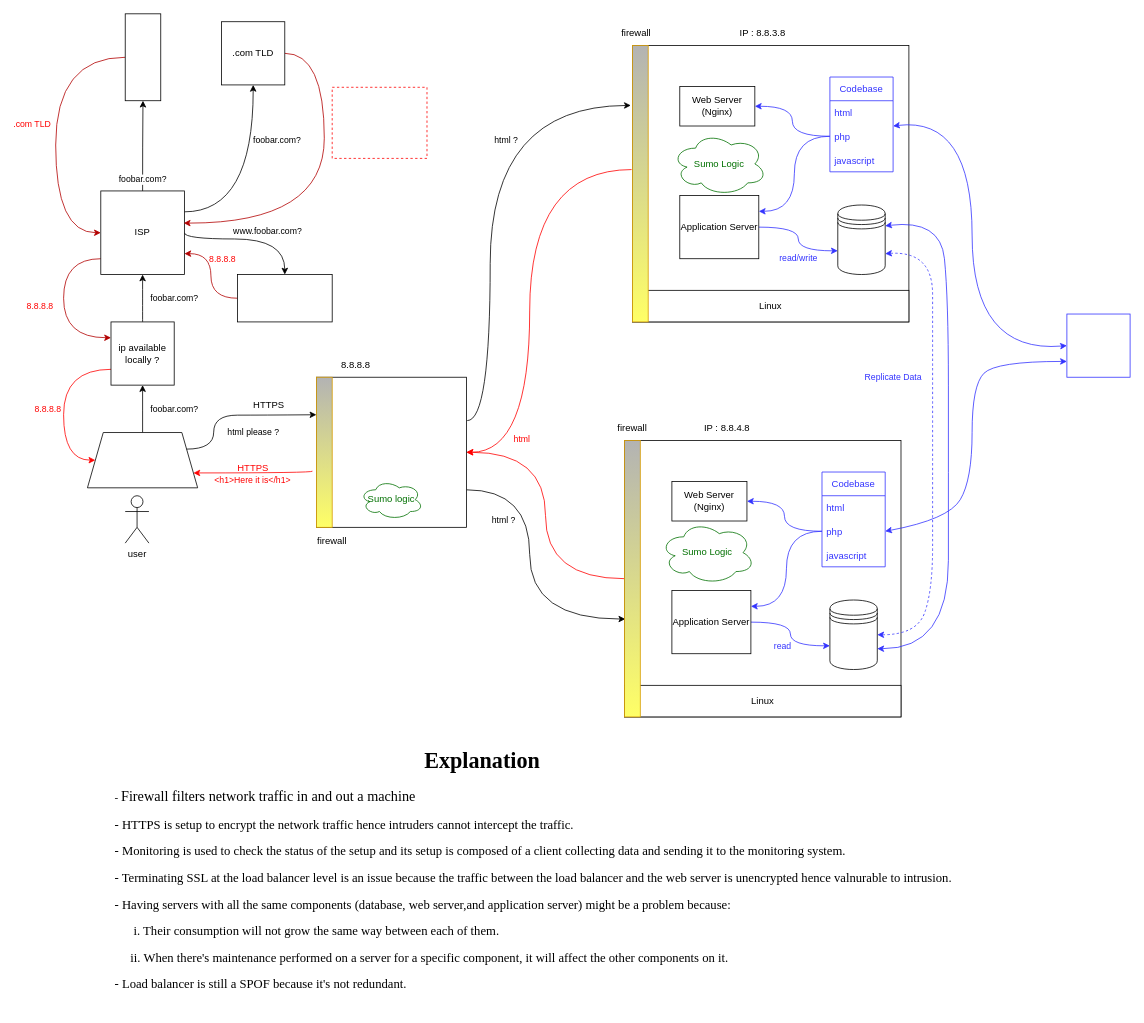
The diagram is 1144 pixels wide and 1023 high, and some of its shapes have lost their labels. Each missing label, with the box of its shape:
foobar.com Browser: (87, 432, 198, 488)
github: (1066, 313, 1130, 377)
HA Proxy Load Balancer (SSL Certificate): (316, 376, 466, 527)
Master MYSQL Databse: (837, 204, 885, 275)
MYSQL Replica Database: (829, 599, 877, 670)
ns1.foobar.com ns2.foobar.com . . . ns7.foobar.com: (331, 87, 427, 158)
ns2.foobar.com: (237, 274, 332, 322)
ROOT: (124, 13, 161, 101)
